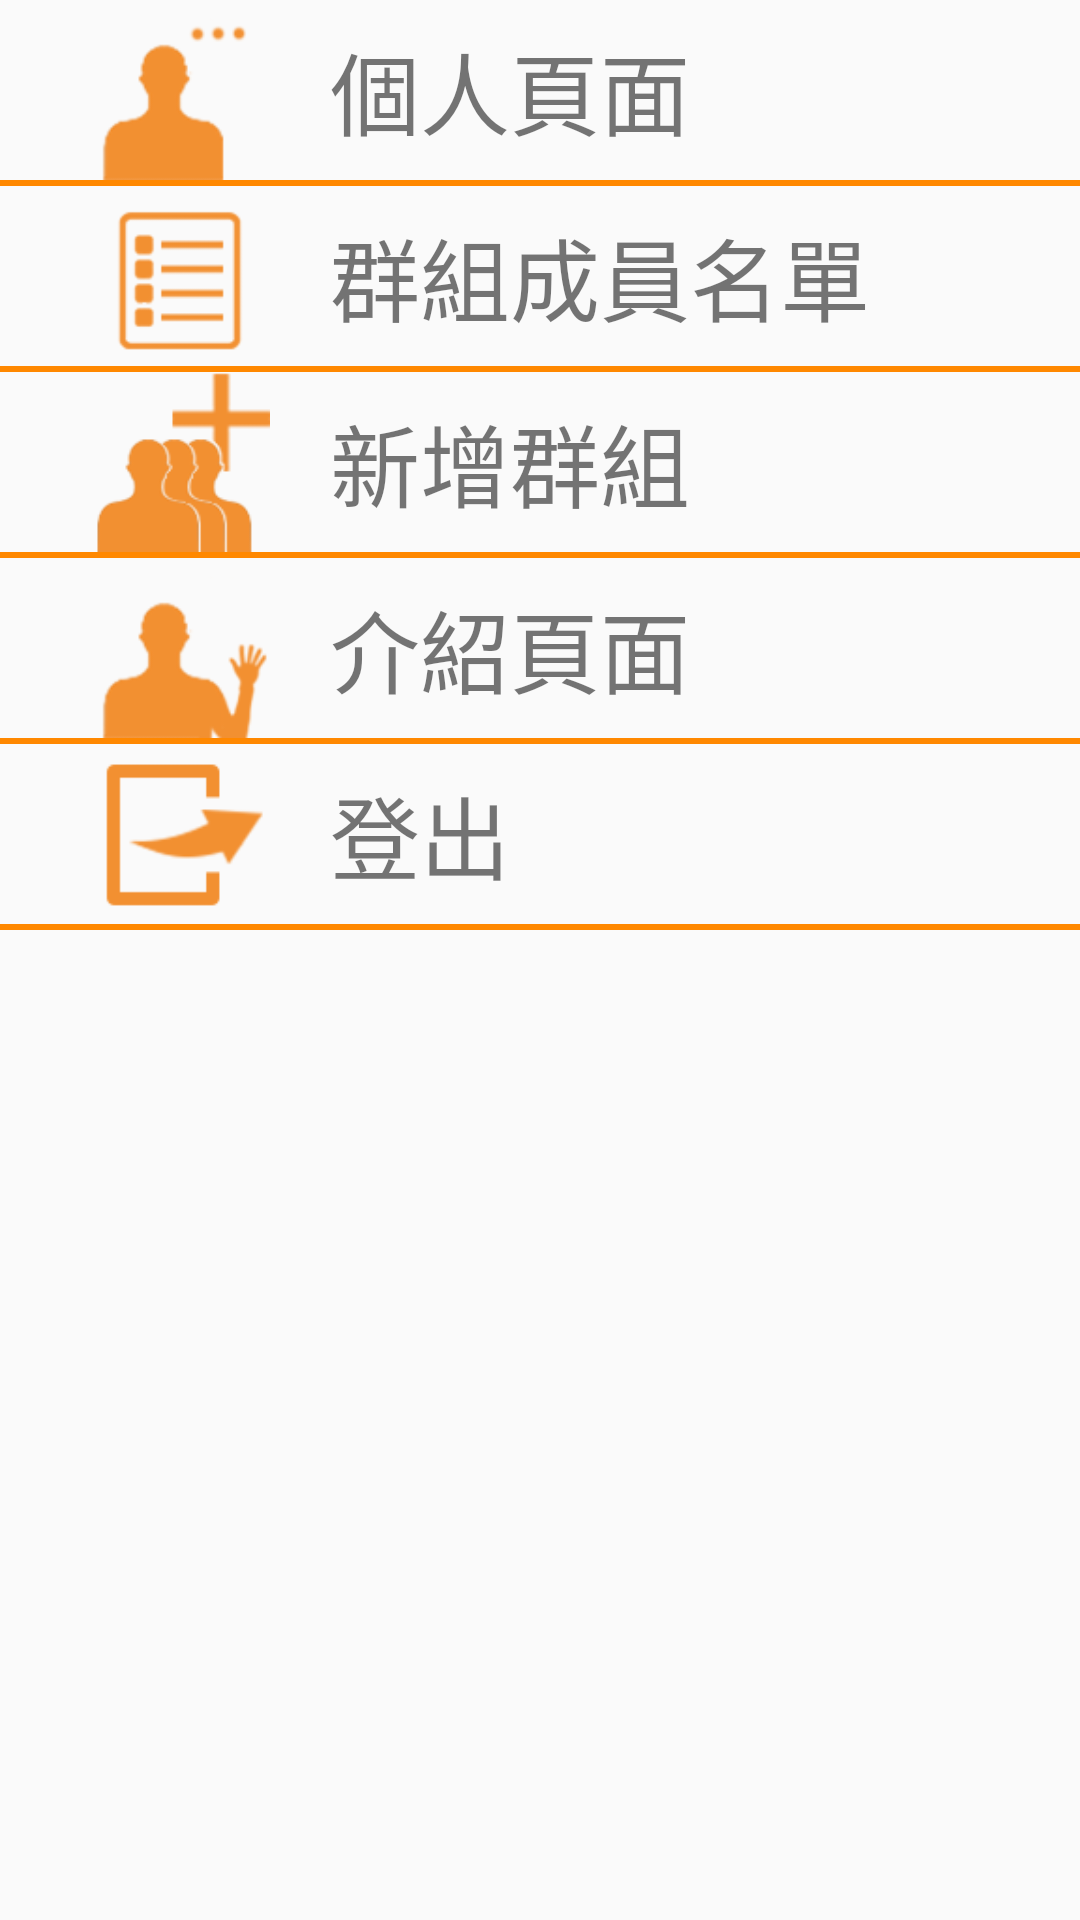

Screen size 1080*1920. Icon name, then its center in pixels as (x=x, y=y):
addgroup: (x=180, y=462)
groupmemberlist: (x=180, y=281)
intoduction: (x=180, y=648)
profile: (x=174, y=103)
